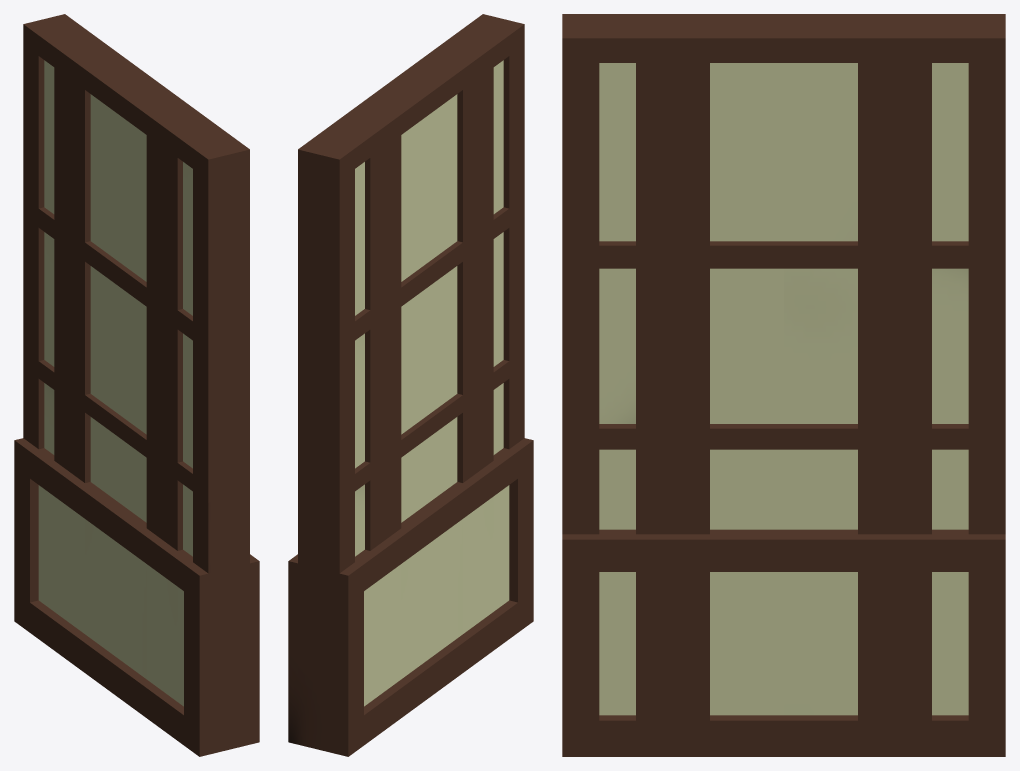
File: Porta.fbx
3 renders of one model, left to right at view 1: azimuth 30°, elevation 25°; view 2: azimuth 150°, elevation 25°; view 3: azimuth 270°, elevation 25°, orthographic. The views are drawn at different scales.
Parts seen in each view (by area): view 1: Cube; view 2: Cube; view 3: Cube.
Part boxes in pixels (x1,y1,x2,y2): Cube: (14,14,259,756); Cube: (288,14,533,756); Cube: (562,14,1005,756).
Bounding box in the file's own units: 215 × 2043 × 1152.
Materials: 1 (1 with a texture image).
